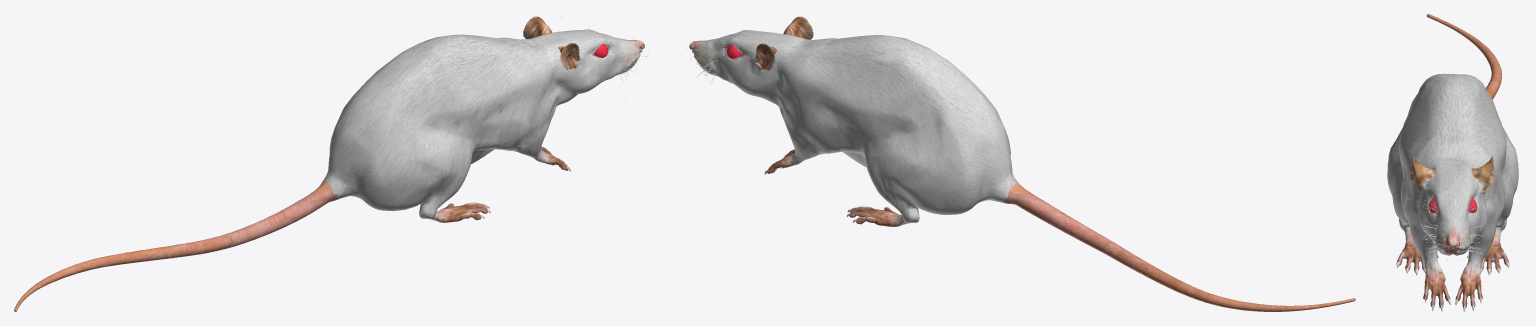
The model's file is lab-rat-lite.glb.
3 views of the same model, side by side, from view 1: azimuth 30°, elevation 25°; view 2: azimuth 150°, elevation 25°; view 3: azimuth 270°, elevation 25° (orthographic). The views are drawn at different scales.
Visible parts, largest first — view 1: Object_81, Object_78, Object_11, Object_82, Object_10; view 2: Object_81, Object_11, Object_78, Object_82, Object_10; view 3: Object_81, Object_11, Object_82, Object_10, Object_78, Object_69, Object_15, Object_92.
Boxes of the visible parts, x1,y1,x2,y2 form: Object_81: [324, 34, 554, 215]; Object_78: [14, 178, 337, 311]; Object_11: [531, 29, 644, 113]; Object_82: [419, 146, 568, 222]; Object_10: [523, 16, 580, 69]; Object_81: [781, 35, 1017, 220]; Object_11: [689, 30, 805, 113]; Object_78: [1003, 181, 1355, 311]; Object_82: [767, 149, 919, 226]; Object_10: [753, 16, 813, 70]; Object_81: [1387, 73, 1518, 263]; Object_11: [1416, 160, 1489, 255]; Object_82: [1397, 222, 1508, 307]; Object_10: [1410, 156, 1495, 194]; Object_78: [1426, 14, 1501, 160]; Object_69: [1407, 182, 1498, 260]; Object_15: [1396, 255, 1509, 311]; Object_92: [1428, 198, 1477, 212].
Bounding box in the file's own units: 12950 × 3184 × 2192.
11 materials, 5 textured.
